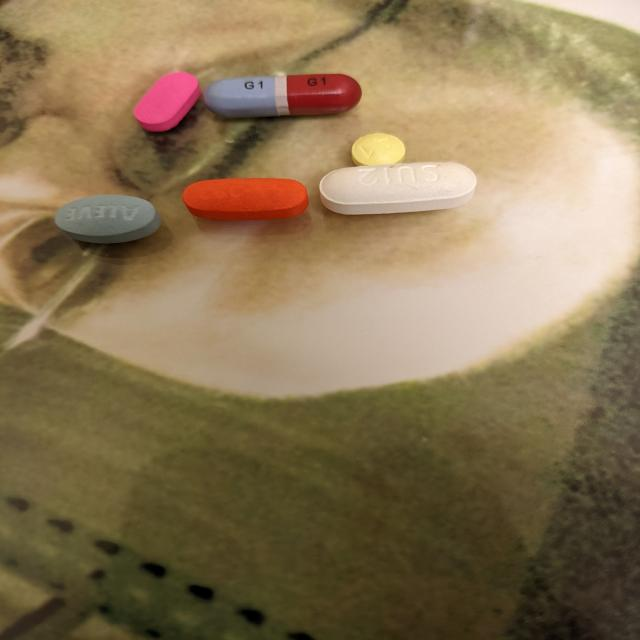non-organic waste: (317, 160, 478, 216), (201, 73, 365, 120), (52, 193, 162, 246), (180, 177, 312, 220), (132, 71, 203, 134), (349, 132, 407, 169)
